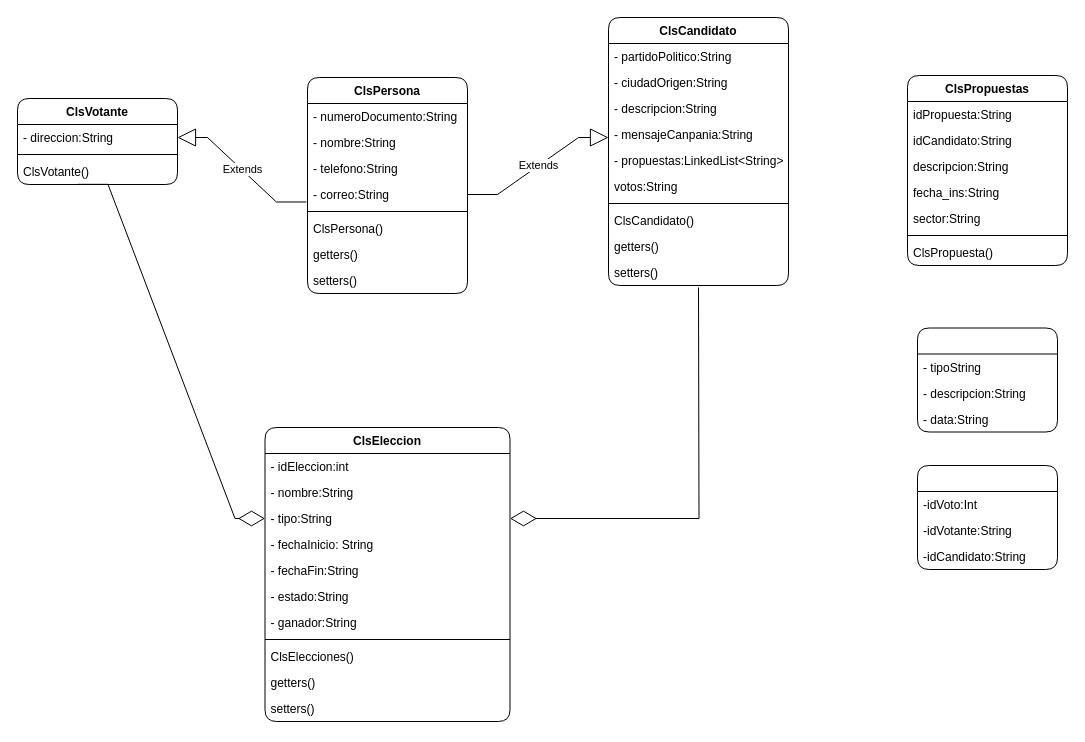
The diagram is 1085 pixels wide and 742 high, and some of its shapes have lost their labels. The box of each missing label's shape, as (x1, y1, x2, y2) in pixels:
ClsMensaje: (916, 327, 1058, 432)
ClsVotacion: (916, 464, 1058, 570)
